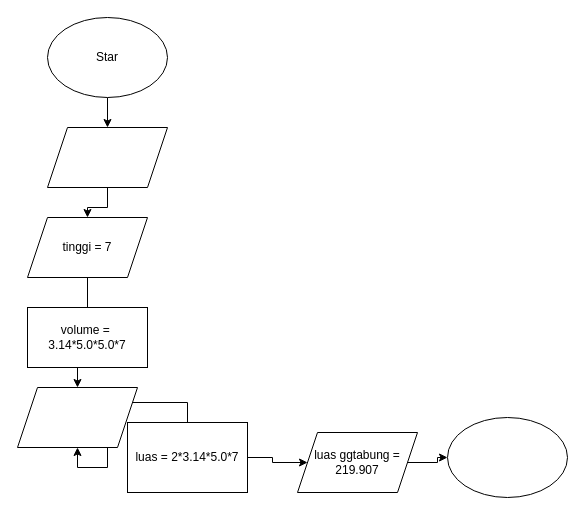
This 585x515 diagram has some shape labels left out. The centre of each missing label's shape, as x and y in pixels:
End: pixel 507 457
jari-jari = 5.0: pixel 107 157
volume tabung = 549.768: pixel 77 417
